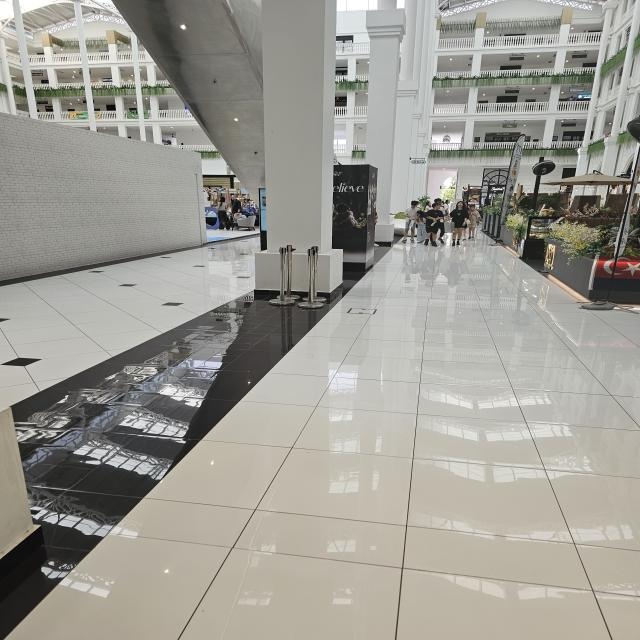footpath: (32, 318, 638, 639), (375, 248, 511, 314)
obstacle: (0, 111, 207, 283), (519, 196, 640, 309), (336, 160, 388, 275), (269, 244, 300, 306), (297, 246, 326, 308)
person: (424, 202, 445, 246), (402, 200, 421, 243), (450, 201, 468, 246), (215, 192, 230, 230), (464, 205, 480, 239)
wall: (255, 140, 347, 298)
